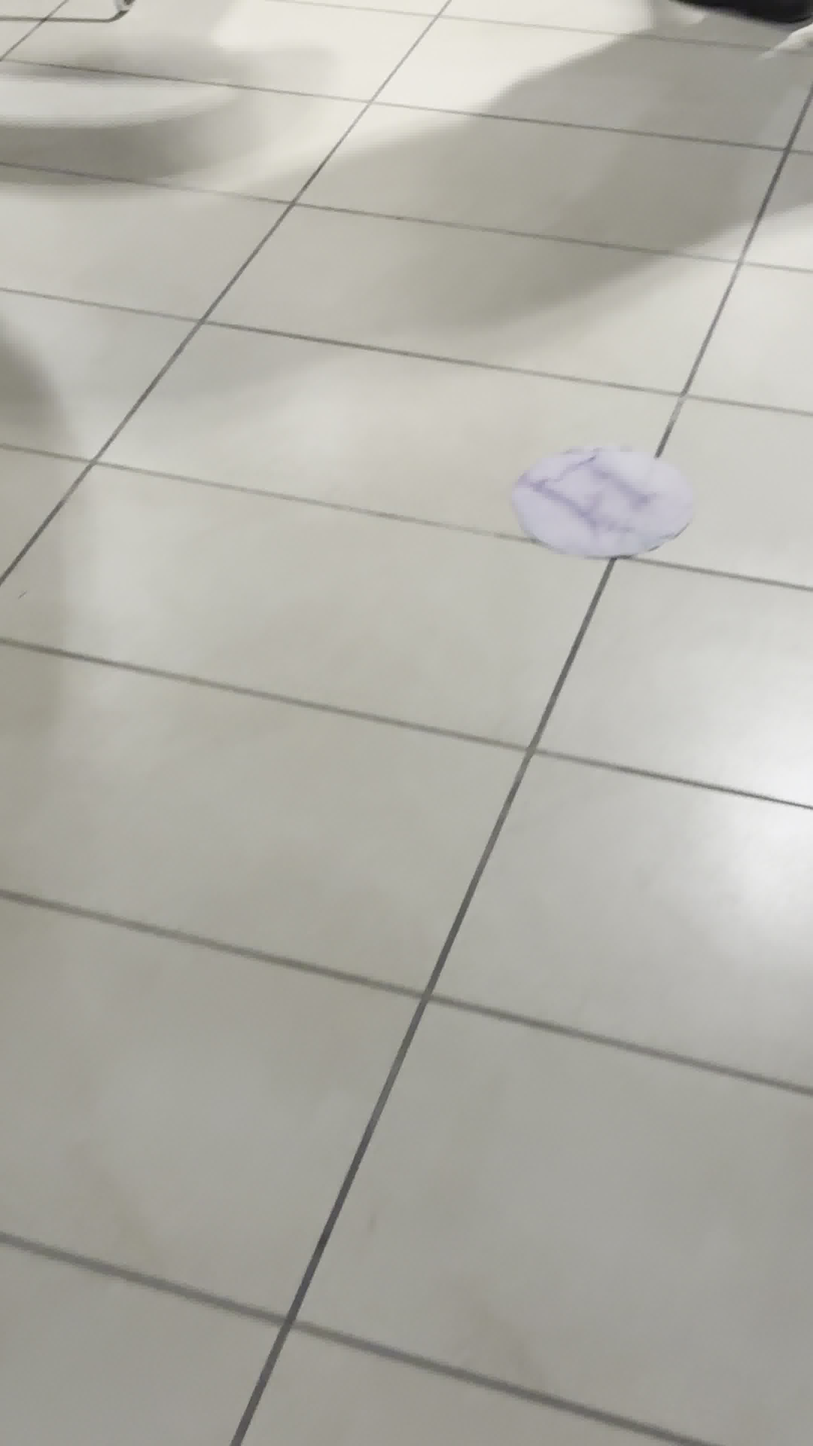Target: (518, 441, 688, 556)
